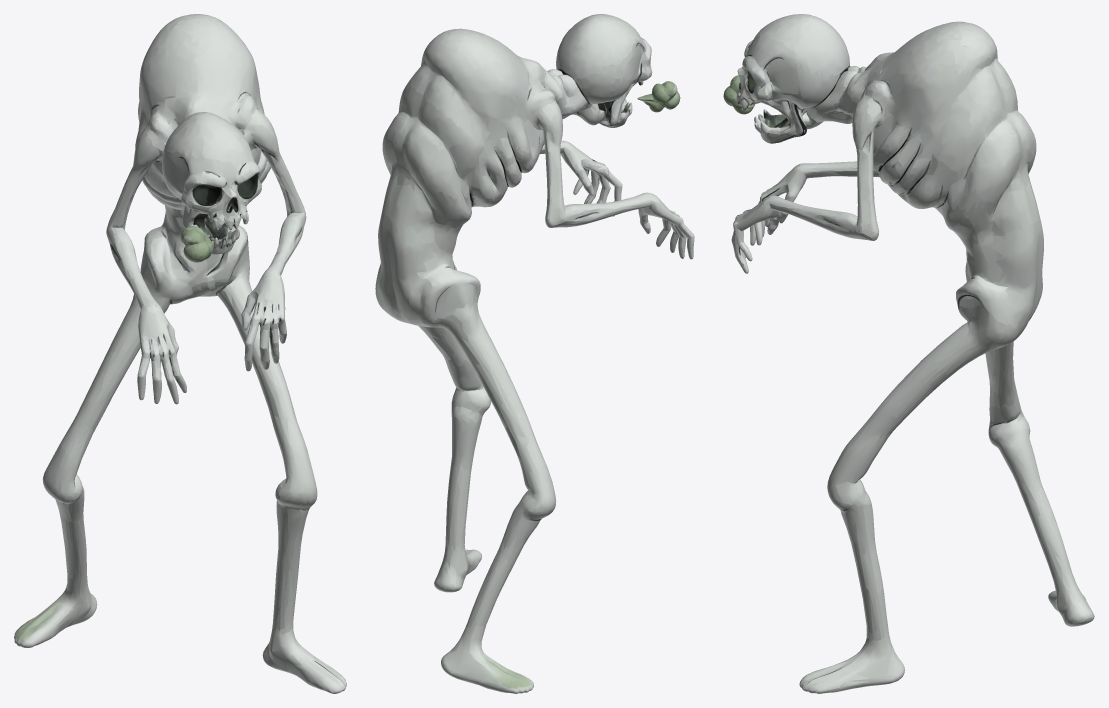
The model's file is tuberculosis.glb.
3 views of the same model, side by side, from view 1: azimuth 30°, elevation 25°; view 2: azimuth 150°, elevation 25°; view 3: azimuth 270°, elevation 25° (orthographic). The views are drawn at different scales.
Size of the model in its own units: 0.7312 by 1.9 by 1.01.
1 material, 1 textured.
